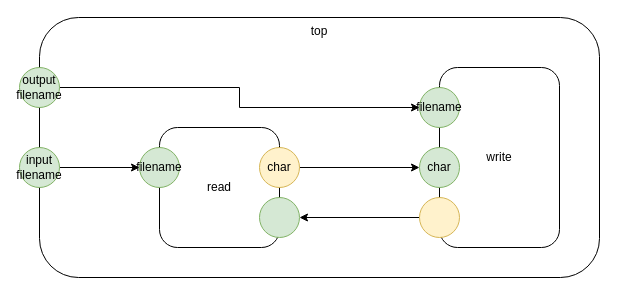
This 617x295 diagram has some shape labels left out. The centre of each missing label's shape, as x and y in pixels:
"req" goes at (x=279, y=217).
"request" goes at (x=439, y=217).
